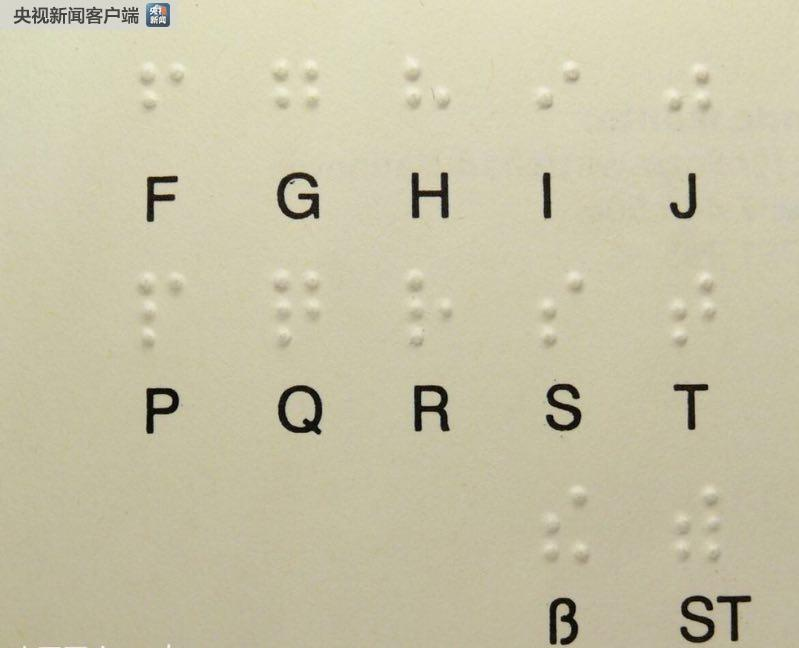Braille: (270, 56, 323, 132), (273, 268, 323, 347), (542, 483, 591, 563), (674, 485, 722, 566), (137, 270, 186, 349), (407, 270, 456, 349), (538, 270, 586, 349), (671, 270, 717, 351), (404, 58, 452, 132), (667, 62, 713, 134), (536, 60, 581, 131), (141, 62, 186, 126)
